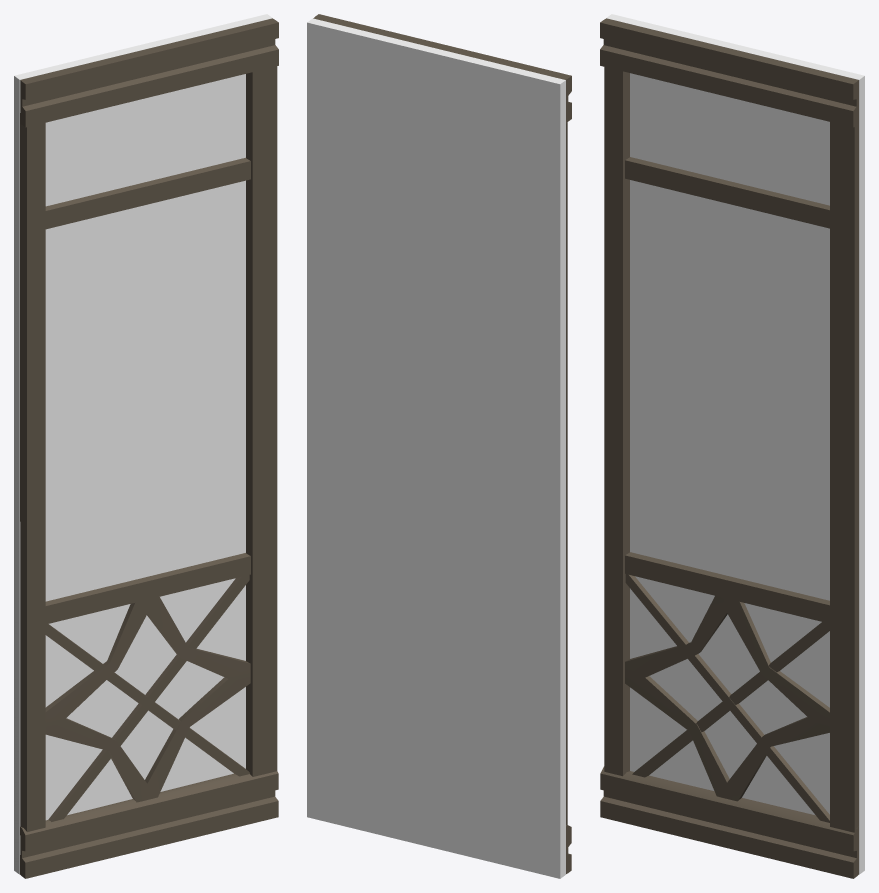
Rendered from WALL_04_1.fbx.
The picture shows the model from 3 angles, left to right: view 1: azimuth 30°, elevation 25°; view 2: azimuth 150°, elevation 25°; view 3: azimuth 330°, elevation 25°; orthographic projection.
Parts seen in each view (by area): view 1: WALL_04_1; view 2: WALL_04_1; view 3: WALL_04_1.
Part boxes in pixels (left/top/right/bottom): WALL_04_1: left=14, top=14, right=278, bottom=878; WALL_04_1: left=307, top=14, right=571, bottom=878; WALL_04_1: left=600, top=14, right=864, bottom=878.
Size of the model in its own units: 100 by 300 by 8.
